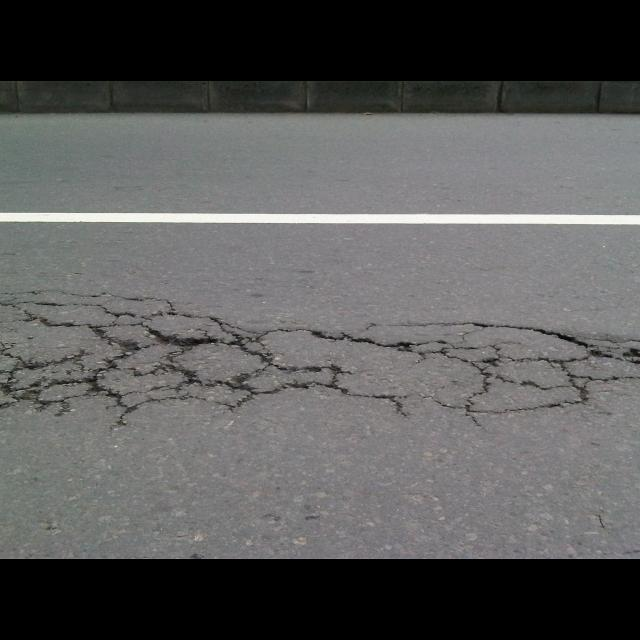retak_kulit_buaya: (0, 270, 640, 435)
